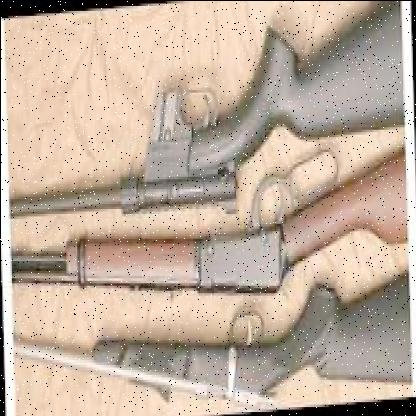rifle: (14, 10, 352, 228), (18, 188, 409, 312), (26, 297, 416, 416)
